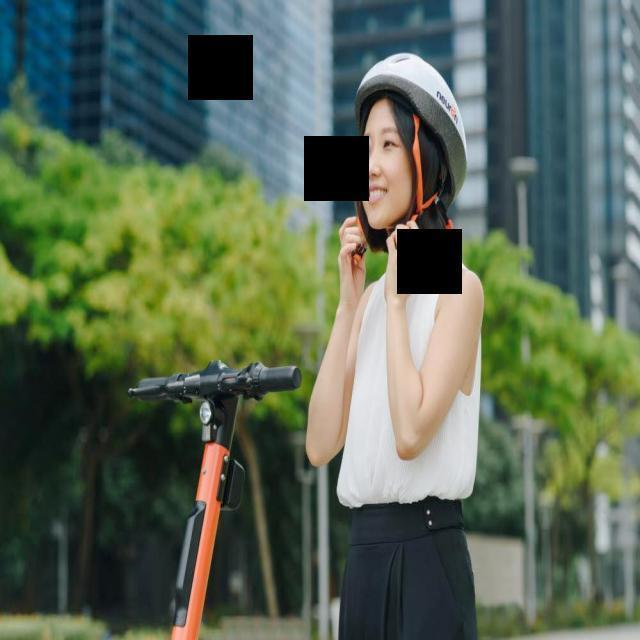helmet: (353, 51, 468, 210)
